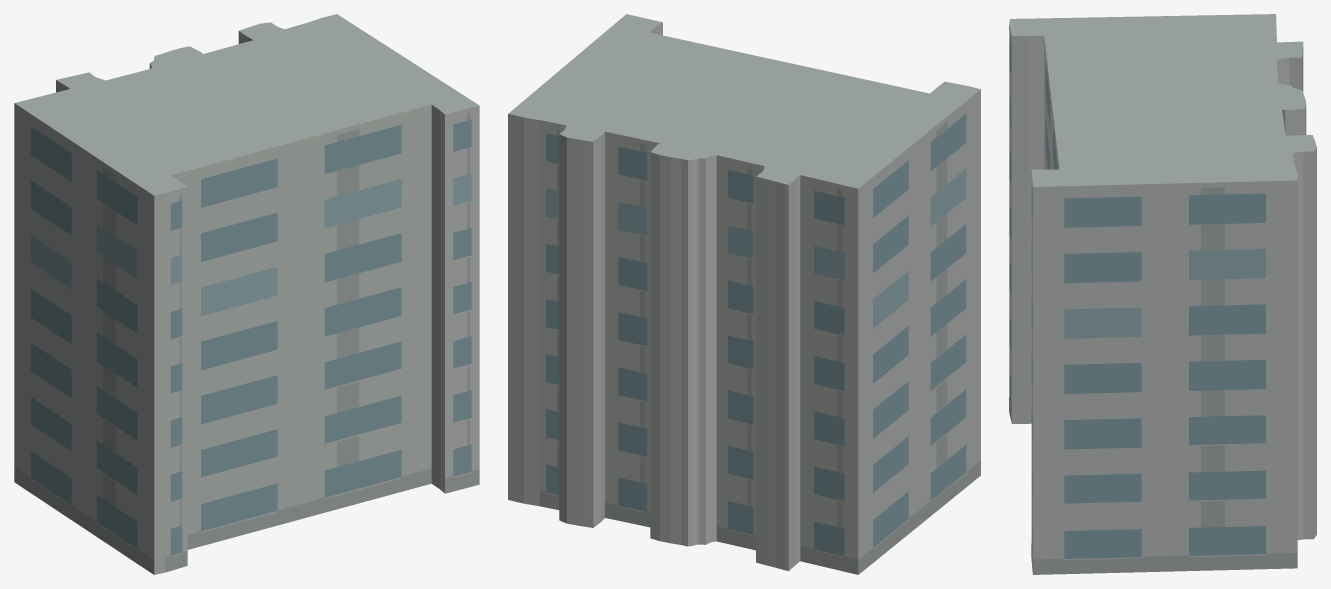
File: survey-upis-32881800.glb
3 views of the same model, side by side, from view 1: azimuth 30°, elevation 25°; view 2: azimuth 150°, elevation 25°; view 3: azimuth 270°, elevation 25° (orthographic). The views are drawn at different scales.
Parts seen in each view (by area): view 1: survey-upis-32881800.tmp; view 2: survey-upis-32881800.tmp; view 3: survey-upis-32881800.tmp.
Boxes of the visible parts, x1=… form: survey-upis-32881800.tmp: x1=14, y1=14, x2=479, y2=574; survey-upis-32881800.tmp: x1=508, y1=14, x2=980, y2=574; survey-upis-32881800.tmp: x1=1009, y1=14, x2=1316, y2=574.
Size of the model in its own units: 18.18 by 19 by 13.66.
